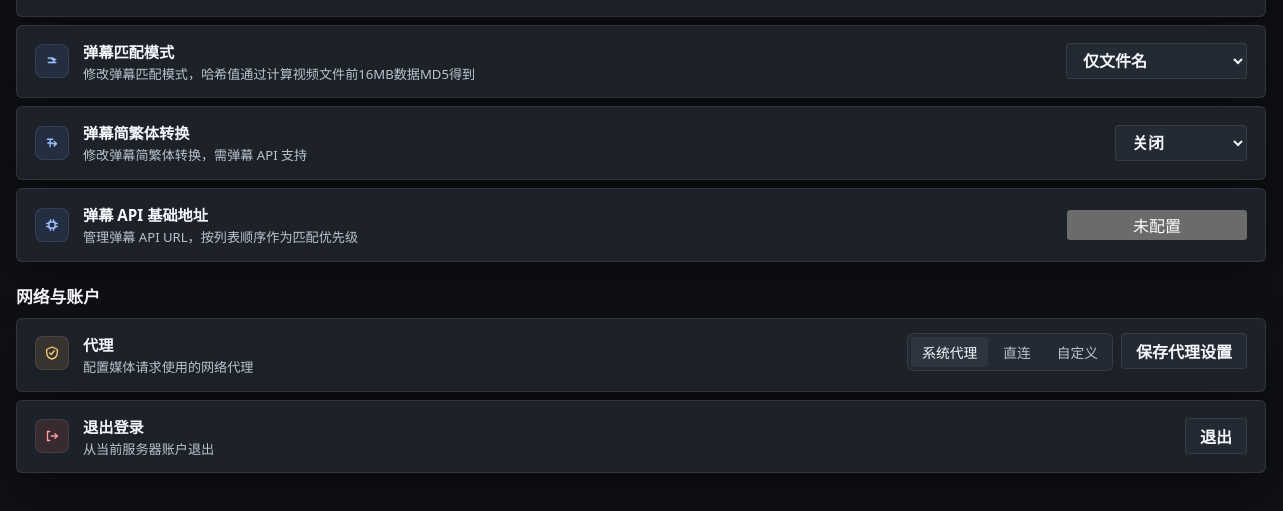
Scenario: SettingsPage › invalid custom proxy save shows an inline error
(page scrolled)
Click the radio button with aria-label "Custom proxy" at [1077, 352], box x1=1057 y1=343 x2=1098 y2=362
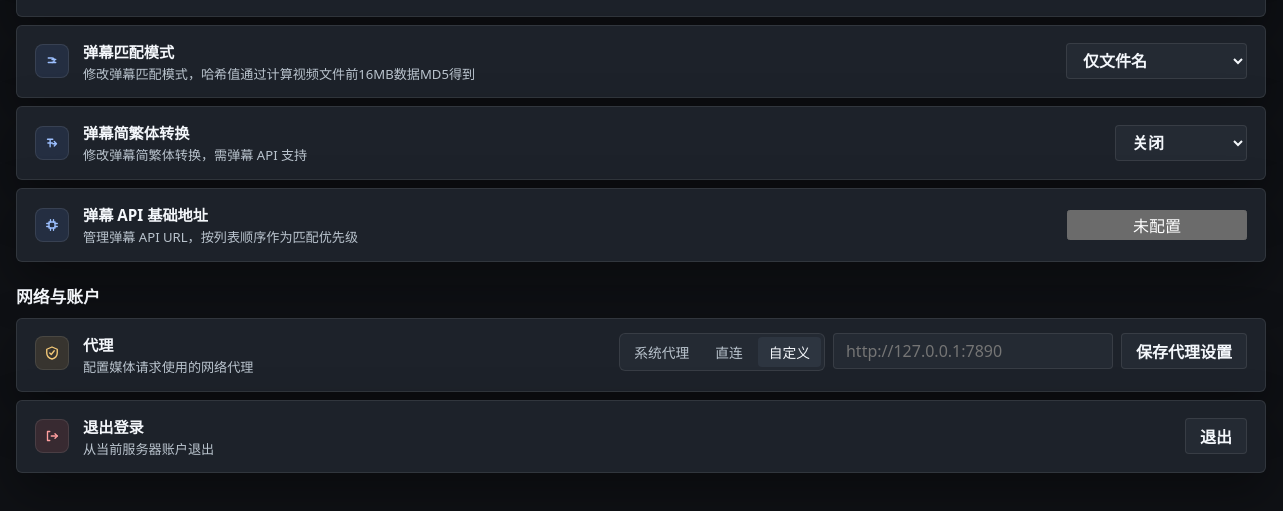
Type "notaurl" into the field named "Custom proxy URL" at [973, 351], box x1=833 y1=333 x2=1113 y2=369
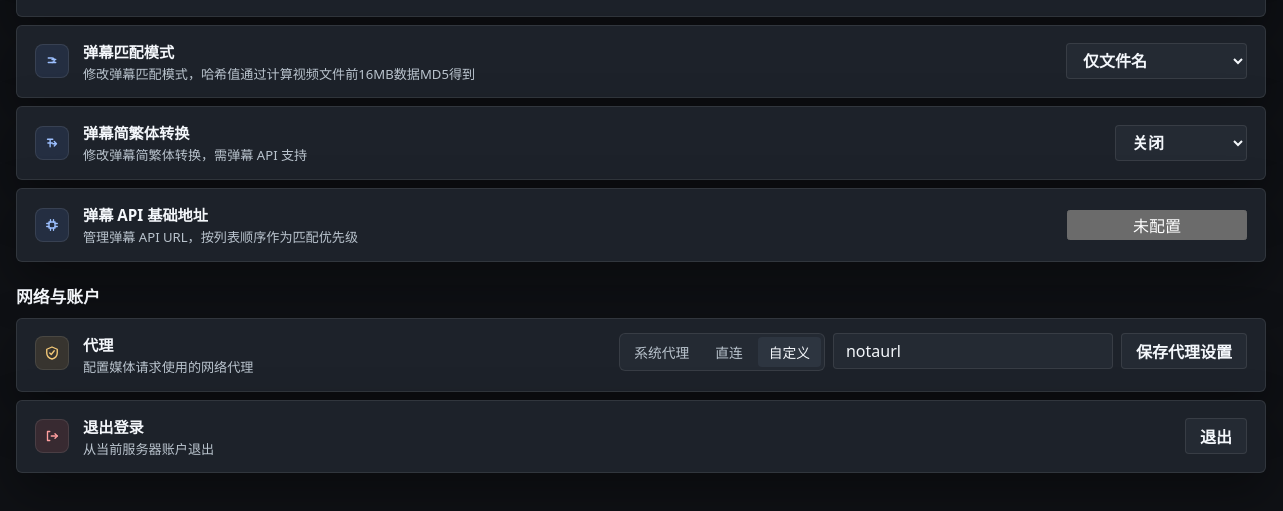
Click the button with aria-label "Save proxy settings" at [1184, 351], box x1=1121 y1=333 x2=1247 y2=369
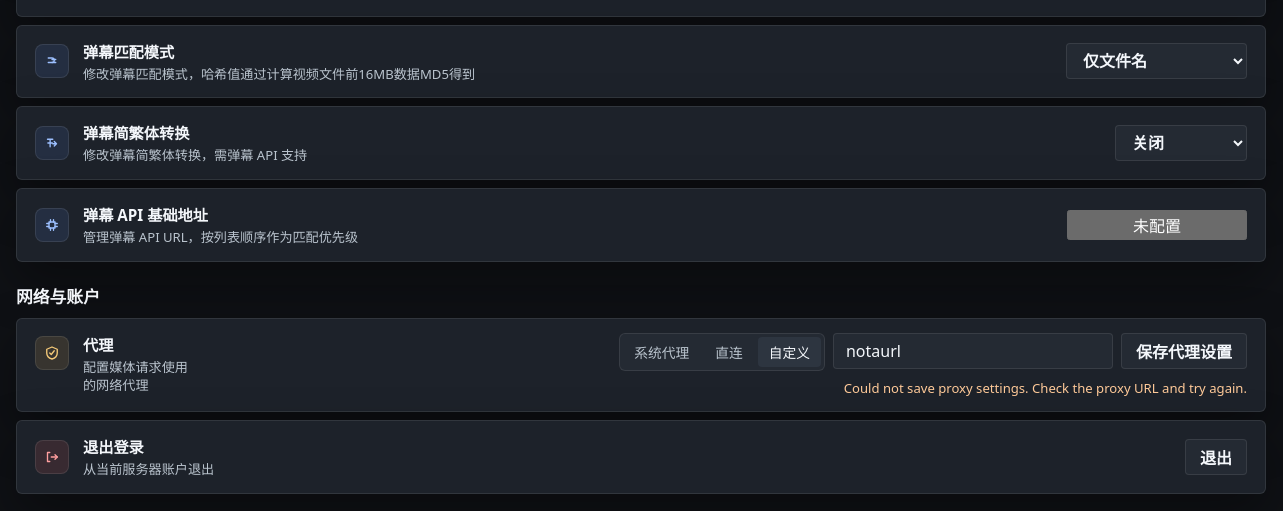
Result: the message reads "Could not save proxy settings. Check the proxy URL and try again." at x1=844 y1=379 x2=1247 y2=397
